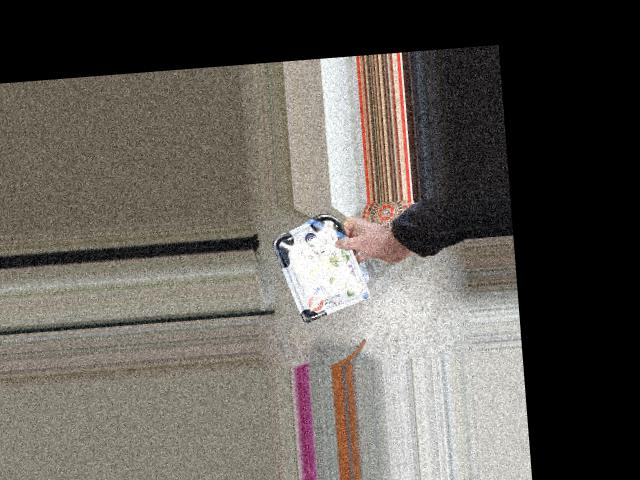cheese: (281, 217, 354, 312)
